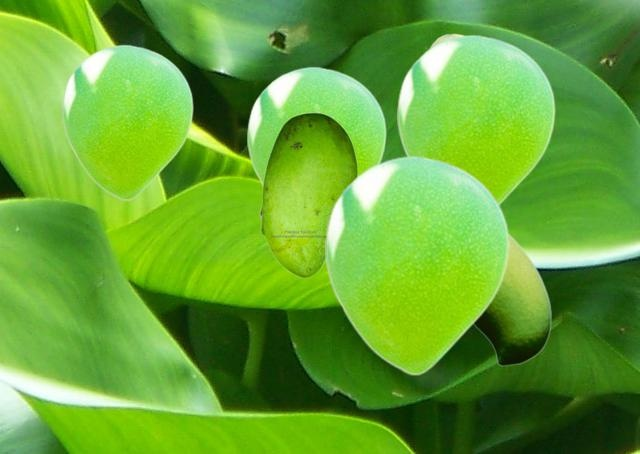green_mango: (325, 155, 508, 375), (397, 34, 554, 206), (62, 44, 192, 200), (247, 66, 385, 186), (259, 112, 357, 277), (474, 233, 550, 365)
